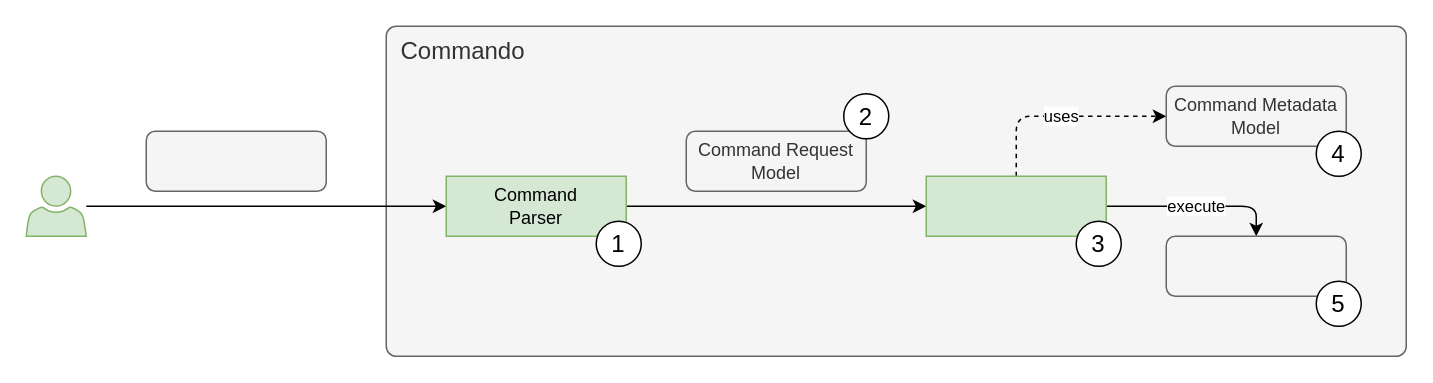
Some shapes in this 1433 by 383 pixel diagram are drawn without their labels. Here are the shapes that lost their labels. From the top down, the centre of each, then its label:
At point (235, 160): "Text (string[] args)".
At point (55, 205): "user".
At point (1015, 205): "Command Router".
At point (1255, 265): "Command Model".
